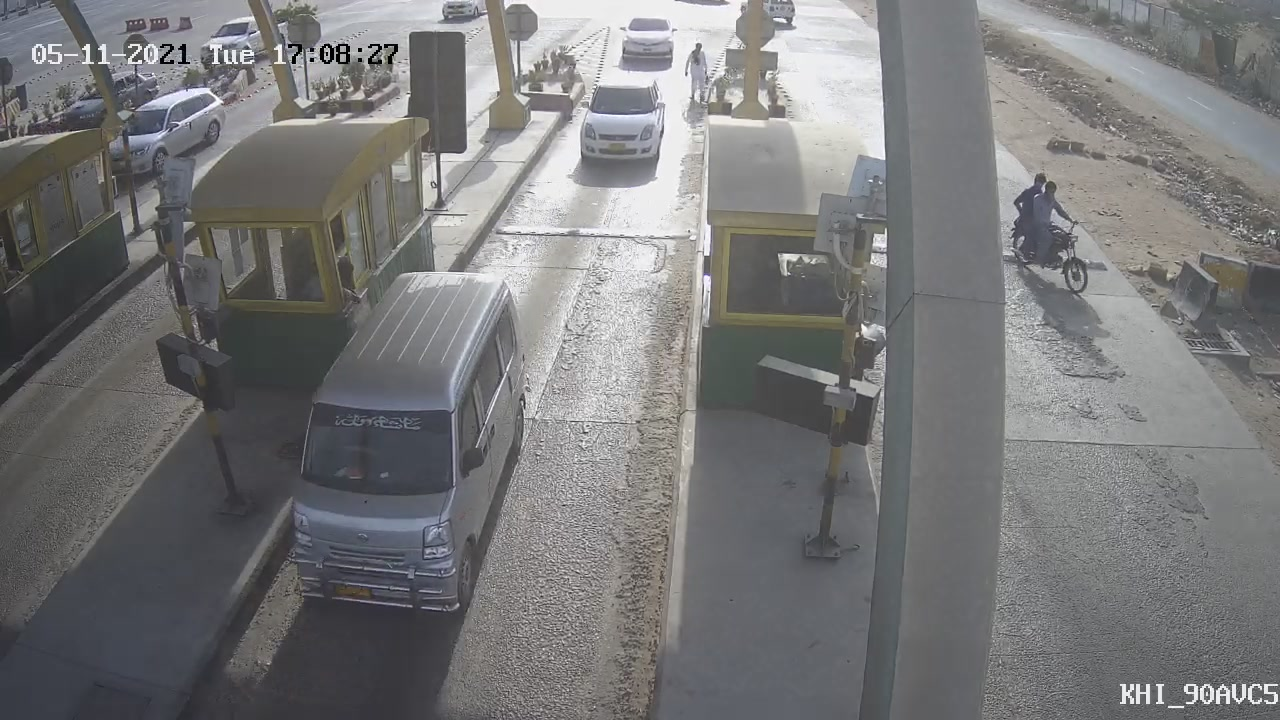F1: (561, 62, 681, 186)
